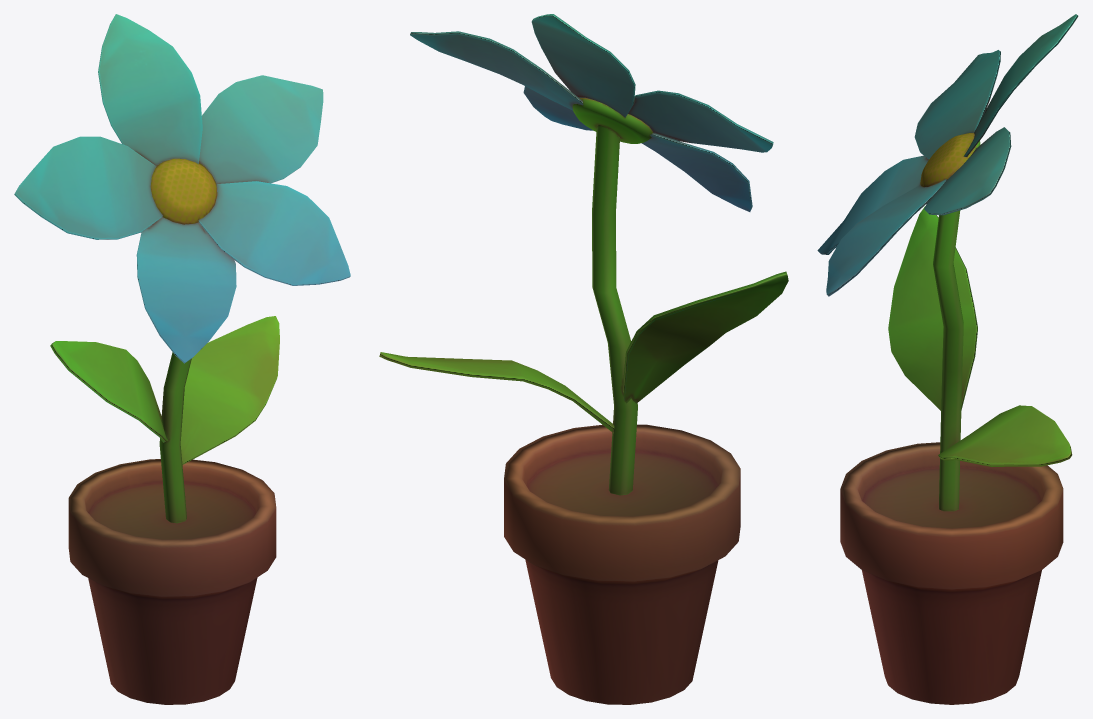
File: mendiane.glb
The picture shows the model from 3 angles, left to right: view 1: azimuth 30°, elevation 25°; view 2: azimuth 150°, elevation 25°; view 3: azimuth 270°, elevation 25°; orthographic projection. The views are drawn at different scales.
Parts seen in each view (by area): view 1: flower_low; view 2: flower_low; view 3: flower_low.
Part boxes in pixels (box(x1,y1,x2,y2)): flower_low: box(14, 14, 350, 704); flower_low: box(379, 14, 788, 704); flower_low: box(817, 14, 1078, 704).
Bounding box in the file's own units: 9.26 × 17.58 × 6.27.
Materials: 1 (1 with a texture image).
